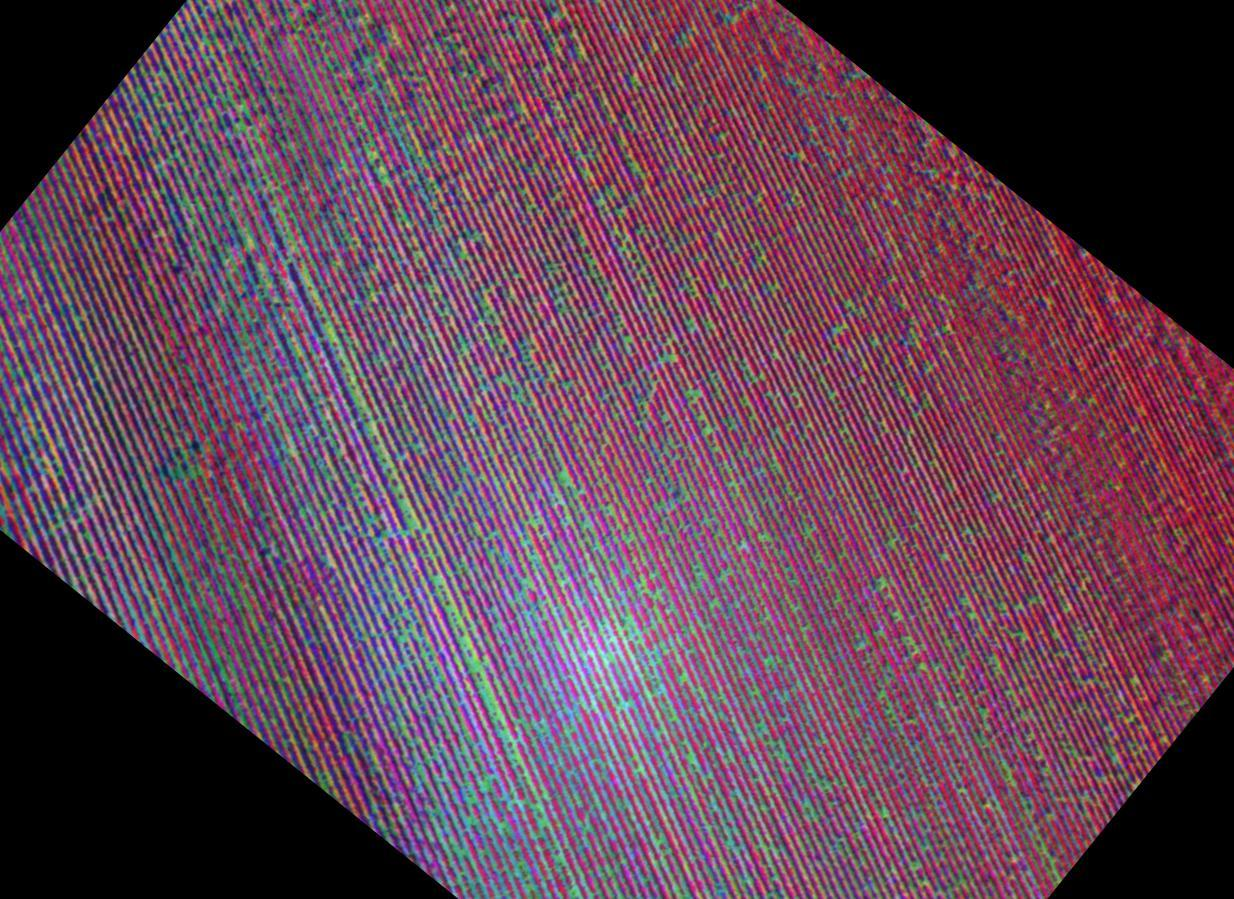dc: (563, 540, 652, 659), (241, 255, 331, 369), (398, 633, 471, 739), (313, 453, 382, 552), (178, 93, 232, 182)
